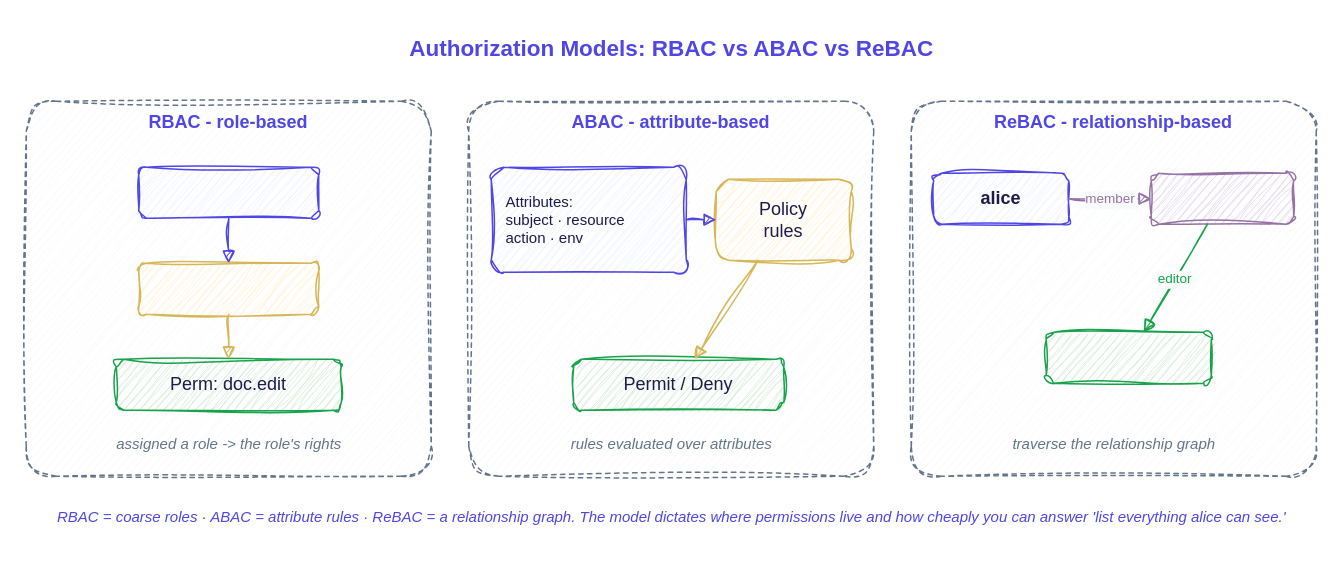
Image size: 1343x564. Some labels were removed from this diagram. The shapes that lost their labels are listed below. From the top down, each one's centre as x and y in pixels, then its label:
At point 228,192: "User: alice".
At point 1222,198: "eng-team".
At point 228,288: "Role: editor".
At point 1128,357: "doc #42".
